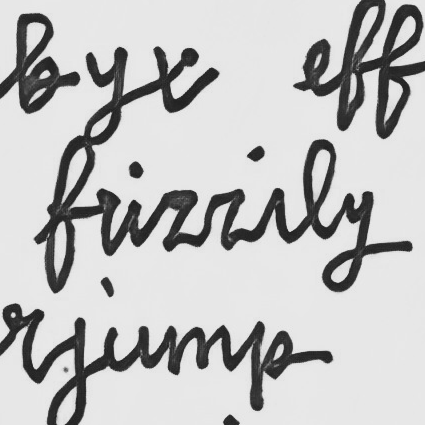f: (41, 134, 98, 295)
i: (123, 157, 147, 250), (261, 182, 292, 245)
l: (298, 137, 338, 241)
r: (92, 185, 122, 258)
y: (319, 188, 376, 294)
z: (156, 187, 203, 254), (206, 187, 248, 253)
